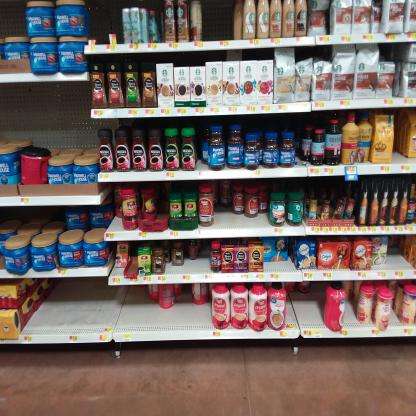Void: (0, 88, 83, 146), (49, 280, 104, 324), (290, 282, 318, 324), (119, 288, 145, 326), (216, 210, 263, 231), (148, 308, 205, 325), (92, 5, 119, 37), (206, 4, 232, 37), (5, 8, 26, 30), (388, 241, 404, 266), (347, 289, 358, 321), (298, 48, 328, 57), (380, 49, 402, 60)
